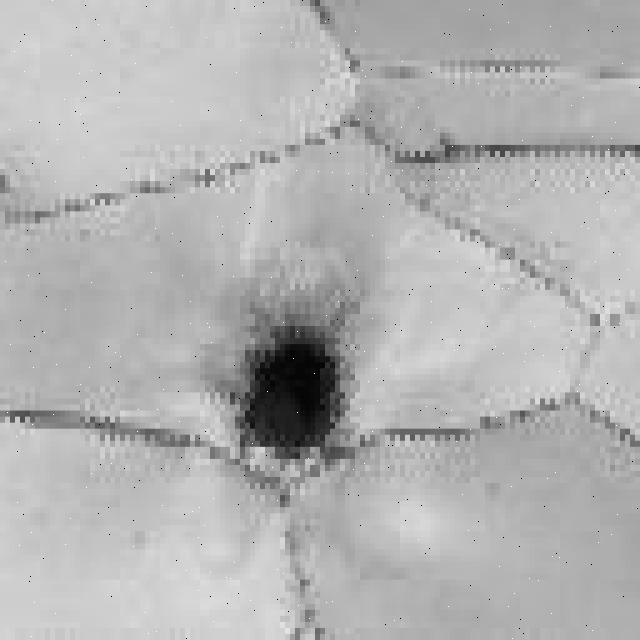good_void: (214, 291, 370, 508)
